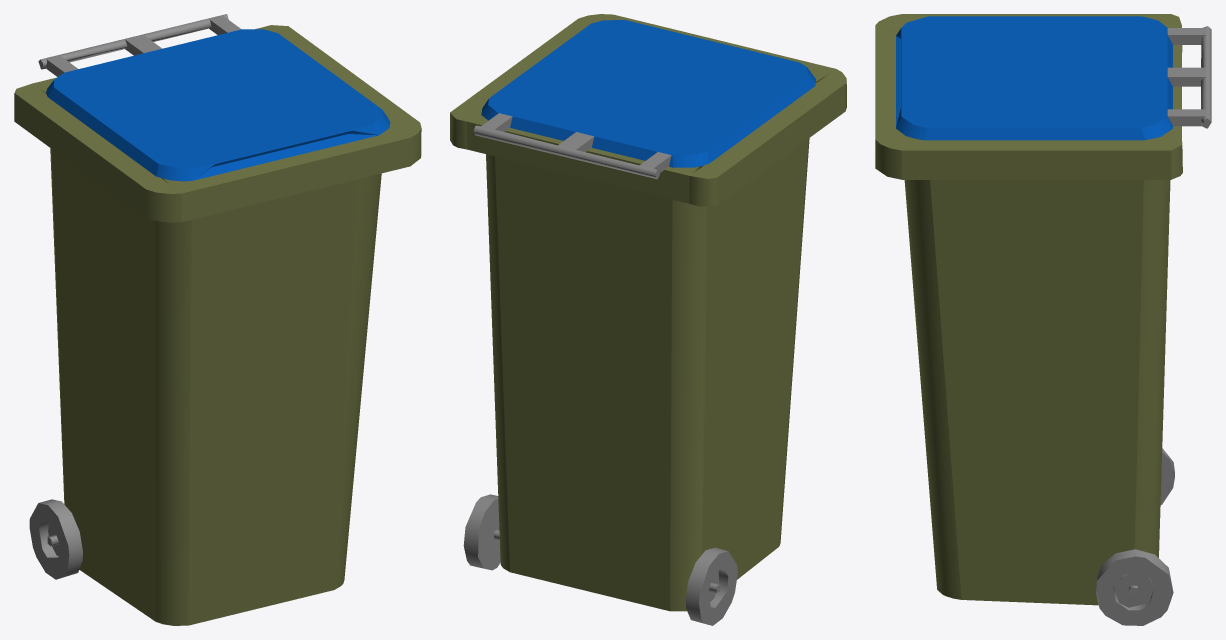
Rendered from trash_wheelie_bin.glb.
3 views of the same model, side by side, from view 1: azimuth 30°, elevation 25°; view 2: azimuth 150°, elevation 25°; view 3: azimuth 270°, elevation 25° (orthographic). The views are drawn at different scales.
Visible parts, largest first — view 1: 2_2, 3_3, 27_27; view 2: 2_2, 3_3, 27_27; view 3: 2_2, 3_3, 27_27.
Part boxes in pixels (box(x1,y1,x2,y2)): 2_2: box(14, 25, 421, 625); 3_3: box(46, 29, 390, 181); 27_27: box(29, 14, 241, 579); 2_2: box(450, 14, 846, 611); 3_3: box(481, 20, 815, 167); 27_27: box(463, 113, 737, 625); 2_2: box(875, 14, 1182, 605); 3_3: box(896, 16, 1172, 140); 27_27: box(1096, 26, 1211, 625).
Bounding box in the file's own units: 0.6 × 1.01 × 0.6246.
